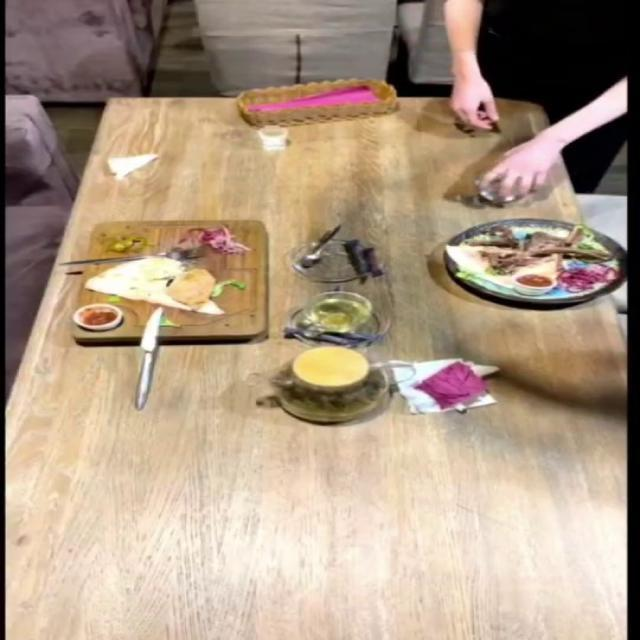meat: (71, 218, 273, 350), (424, 184, 606, 330)
tea: (259, 336, 416, 434)
